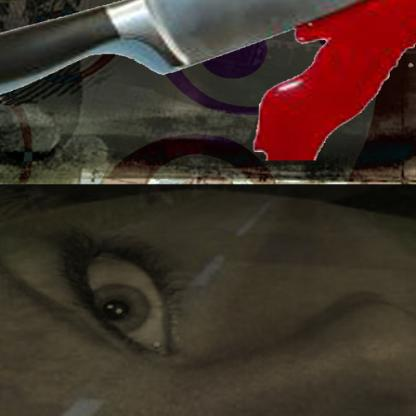knife: (0, 0, 415, 145)
